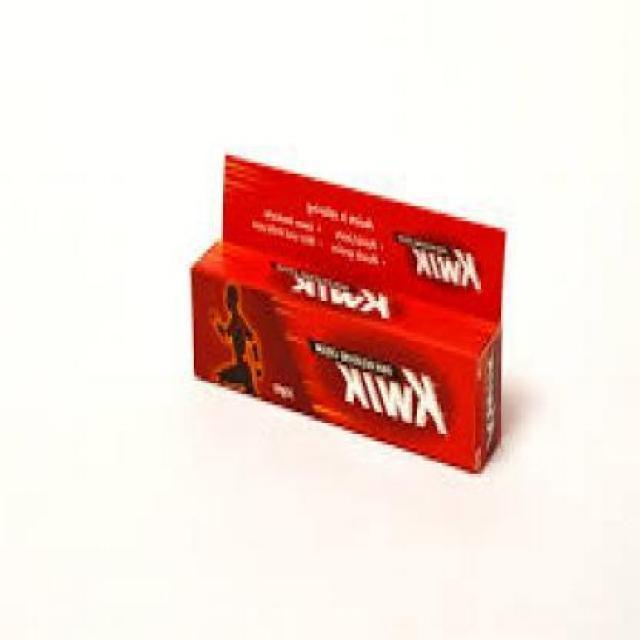box: (194, 153, 508, 479)
